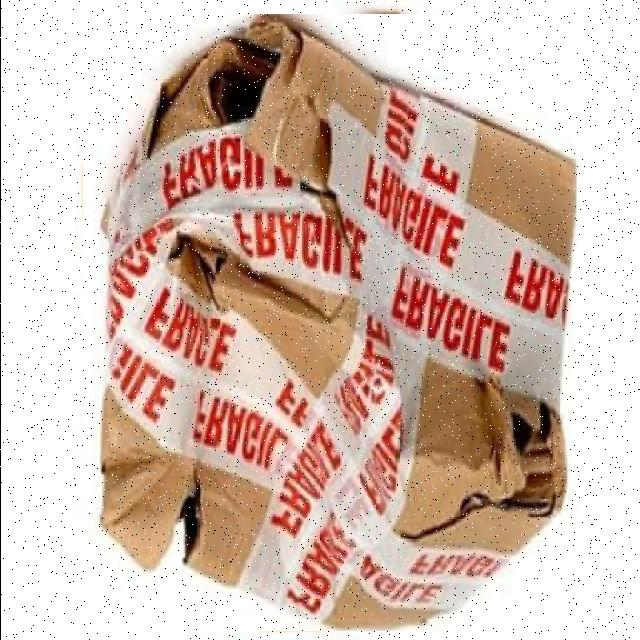defect: (82, 14, 576, 631)
